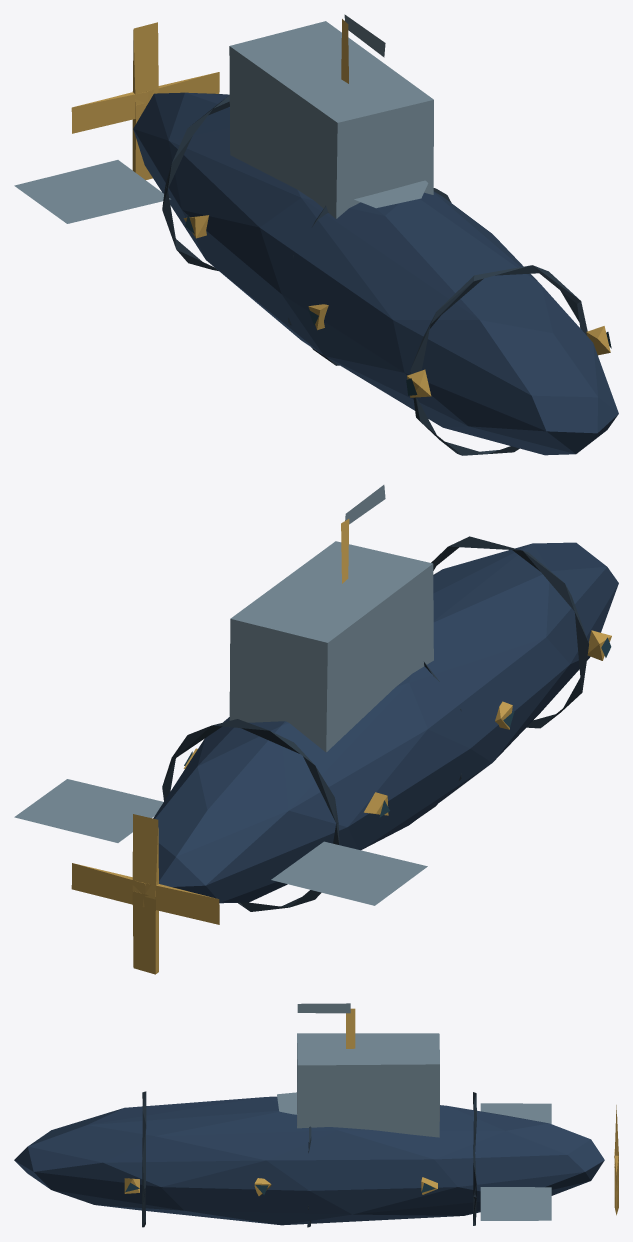
Rendered from submarines-torpedo-sub.lod2.glb.
3 views of the same model, one above another, from view 1: azimuth 30°, elevation 25°; view 2: azimuth 150°, elevation 25°; view 3: azimuth 270°, elevation 25° (orthographic). The views are drawn at different scales.
Parts seen in each view (by area): view 1: submarines-torpedo-sub__body, submarines-torpedo-sub__propeller, submarines-torpedo-sub__hatch; view 2: submarines-torpedo-sub__body, submarines-torpedo-sub__propeller; view 3: submarines-torpedo-sub__body, submarines-torpedo-sub__propeller, submarines-torpedo-sub__hatch.
Boxes of the visible parts, x1,y1,x2,y2 form: submarines-torpedo-sub__body: (14, 14, 618, 455); submarines-torpedo-sub__propeller: (71, 22, 219, 179); submarines-torpedo-sub__hatch: (354, 180, 428, 208); submarines-torpedo-sub__body: (14, 485, 618, 911); submarines-torpedo-sub__propeller: (71, 814, 219, 974); submarines-torpedo-sub__body: (14, 1003, 604, 1227); submarines-torpedo-sub__propeller: (614, 1105, 618, 1215); submarines-torpedo-sub__hatch: (277, 1092, 297, 1114).
Bounding box in the file's own units: 6.12 × 5.34 × 13.31.
